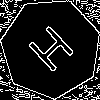H: (26, 23, 83, 82)
